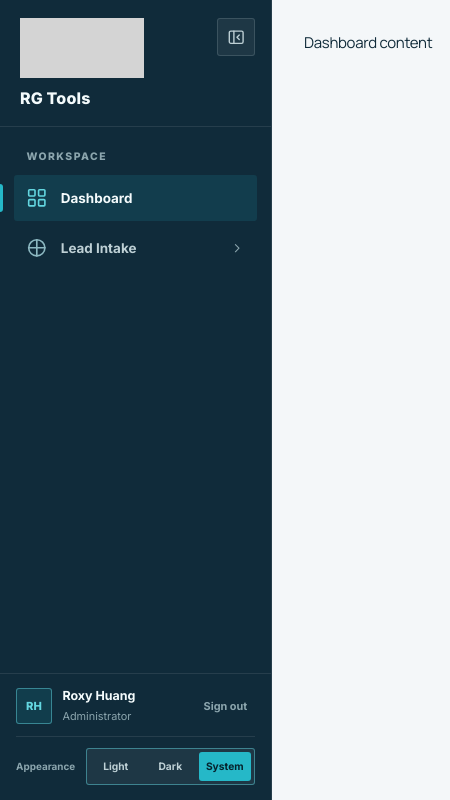
Test case: DashboardShell › lets a desktop user collapse and expand the permission-filtered navigation
Click the button named "Collapse navigation".
click(236, 37)  # box left=217, top=18, right=255, bottom=56
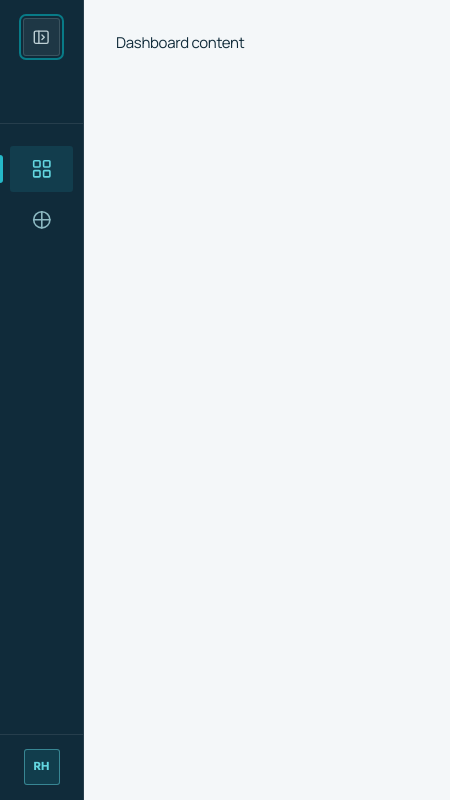
Expected: the heading "Dashboard content" is shown, left=116, top=32, right=244, bottom=53
Now the button named "Expand navigation" is collapsed, box left=23, top=18, right=60, bottom=56
